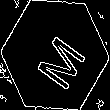M_NW: (25, 22, 85, 88)
